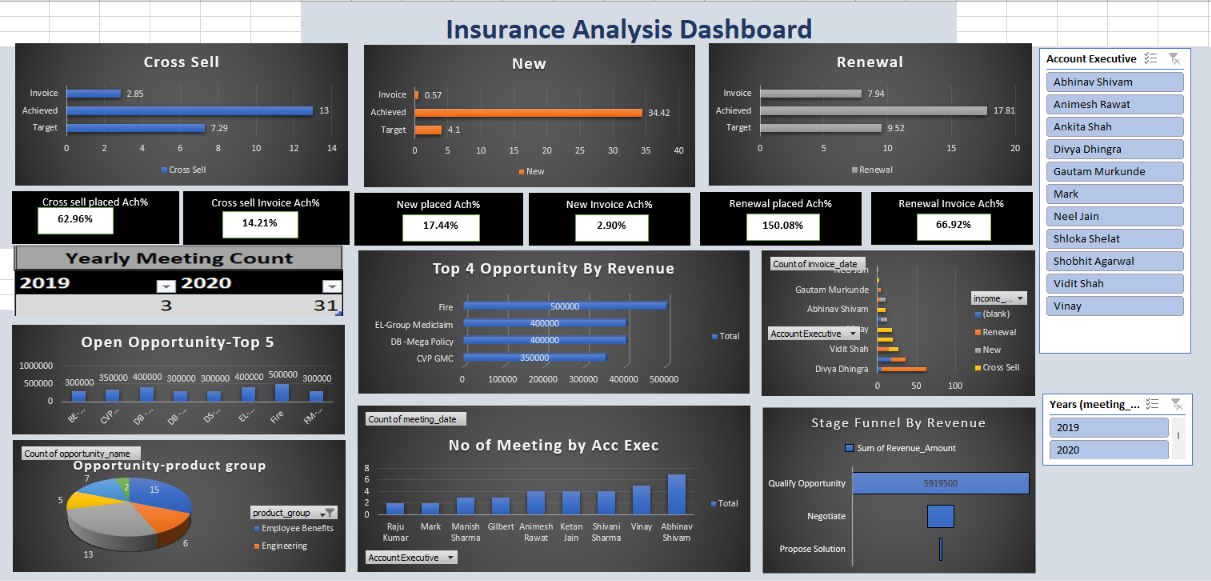

This screenshot's page, from the dashboard's own definition file:
{"tool":"tableau","page":{"name":"Dashboard 1","canvas":[1000,1000],"units":"permille","ordinal":0},"visuals":[{"type":"title","box":[6.9,14.7,986.1,68]},{"type":"worksheet","title":"Renewal","mark":"Automatic","box":[680.5,80.9,310,229.8]},{"type":"worksheet","title":"Cross sell","mark":"Automatic","box":[12.1,82.7,326.4,244.5]},{"type":"worksheet","title":"New","mark":"Automatic","box":[339.4,82.7,333.3,253.7]},{"type":"worksheet","title":"Renewal invoice achvmnt %","mark":"Automatic","box":[823.4,307,173.2,158.1]},{"type":"worksheet","title":"Renewal plcd achvmnt %","mark":"Automatic","box":[686.6,308.8,131.6,148.9]},{"type":"worksheet","title":"Cross sell plcd achvmnt %","mark":"Automatic","box":[6.9,358.5,150.7,167.3]},{"type":"worksheet","title":"New plcd achvmnt %","mark":"Automatic","box":[348.1,362.1,156.7,161.8]},{"type":"worksheet","title":"Cross sell Invoice Achvmnt %","mark":"Automatic","box":[159.3,364,186.2,165.4]},{"type":"worksheet","title":"New invoice achvmnt %","mark":"Automatic","box":[505.6,373.2,179.2,125]},{"type":"filter","title":"No of meeting by acc exec","param":"[federated.0fbdtgp0ams6ob1gxcx2o0gdko0a].[none:Employee Name:nk]","box":[218.2,444.9,123.8,483.5]},{"type":"worksheet","title":"opportunity by product group","mark":"Pie","rows":["Calculation_1276489070578814987","Calculation_1276489070578839564"],"box":[691.8,468.8,301.3,529.4]},{"type":"worksheet","title":"Count of meeting date","mark":"Automatic","cols":["meeting_date"],"box":[6.9,527.6,210.4,141.5]},{"type":"filter","title":"Count of meeting date","param":"[federated.0fbdtgp0ams6ob1gxcx2o0gdko0a].[yr:meeting_date:ok]","box":[226,527.6,138.5,148.9]},{"type":"worksheet","title":"open opportunity top 5","mark":"Automatic","rows":["revenue_amount"],"cols":["opportunity_name"],"box":[450.2,533.1,216.5,237.1]},{"type":"dashboard-object","box":[9.5,534.9,20.8,44.1]},{"type":"worksheet","title":"no of invoice by accnt exec","mark":"Automatic","rows":["Account Executive (invoice)"],"cols":["invoice_CEDA0D09CB2F421BAC7F811AA172FFD2"],"box":[222.5,534.9,218.2,290.4]},{"type":"worksheet","title":"No of meeting by acc exec","mark":"Automatic","rows":["Account Executive (meeting)"],"cols":["meeting_91B61A24943341F7839CF5FD6534BC1B"],"box":[0.9,672.8,219.9,329]},{"type":"dashboard-object","box":[194.8,750,20.8,44.1]},{"type":"worksheet","title":"top 4 opportunity by revenu","mark":"Automatic","rows":["opportunity_name"],"cols":["revenue_amount"],"box":[458.9,777.6,233.8,220.6]},{"type":"worksheet","title":"stage bar by revenu","mark":"Automatic","rows":["stage"],"cols":["revenue_amount"],"box":[206.9,827.2,249.3,169.1]}]}

Visuals, with their boxes on the dashboard's canvas, which has no fixed pixel size, in thousandths of its width and height (x1, y1, x2, y2). These are canvas units, not pixel positions in the 1211x581 screenshot, which may show the page scaled, cropped or inside an application window:
title: 7, 15, 993, 83
"Renewal" worksheet: 680, 81, 990, 311
"Cross sell" worksheet: 12, 83, 338, 327
"New" worksheet: 339, 83, 673, 336
"Renewal invoice achvmnt %" worksheet: 823, 307, 997, 465
"Renewal plcd achvmnt %" worksheet: 687, 309, 818, 458
"Cross sell plcd achvmnt %" worksheet: 7, 358, 158, 526
"New plcd achvmnt %" worksheet: 348, 362, 505, 524
"Cross sell Invoice Achvmnt %" worksheet: 159, 364, 346, 529
"New invoice achvmnt %" worksheet: 506, 373, 685, 498
"No of meeting by acc exec" filter: 218, 445, 342, 928
"opportunity by product group" worksheet (Pie marks): 692, 469, 993, 998
"Count of meeting date" worksheet: 7, 528, 217, 669
"Count of meeting date" filter: 226, 528, 364, 676
"open opportunity top 5" worksheet: 450, 533, 667, 770
dashboard-object: 10, 535, 30, 579
"no of invoice by accnt exec" worksheet: 222, 535, 441, 825
"No of meeting by acc exec" worksheet: 1, 673, 221, 1002
dashboard-object: 195, 750, 216, 794
"top 4 opportunity by revenu" worksheet: 459, 778, 693, 998
"stage bar by revenu" worksheet: 207, 827, 456, 996
